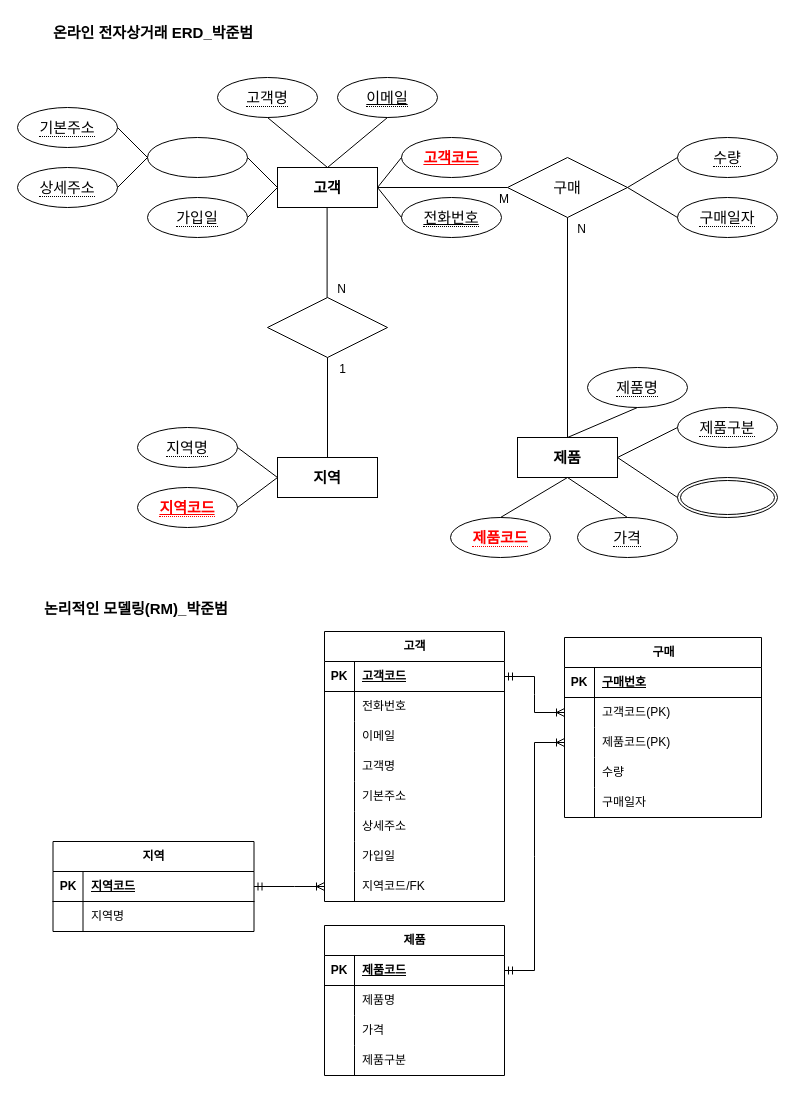
Image size: 795x1093. Some labels were removed from this diagram. Here are the shapes that lost their labels. From the top down, the centre of each, then its label:
At [197,157]: "주소".
At [327,327]: "관리".
At [727,497]: "제품색상".
